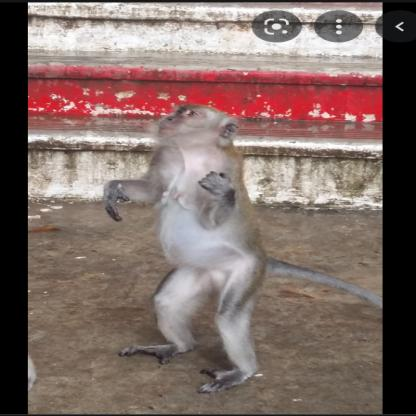monkey: (97, 102, 327, 394)
